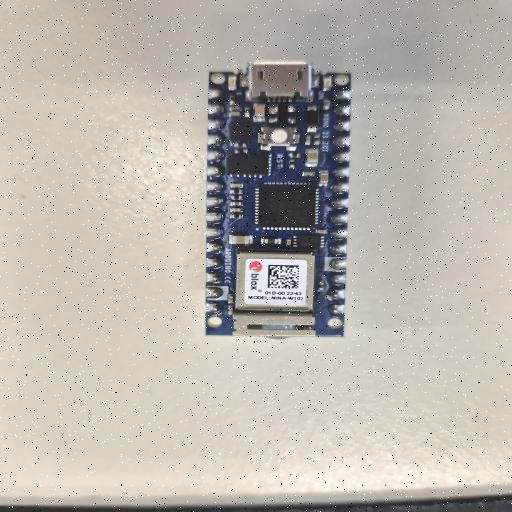arduino-nano-iot-33: (206, 61, 350, 338)
